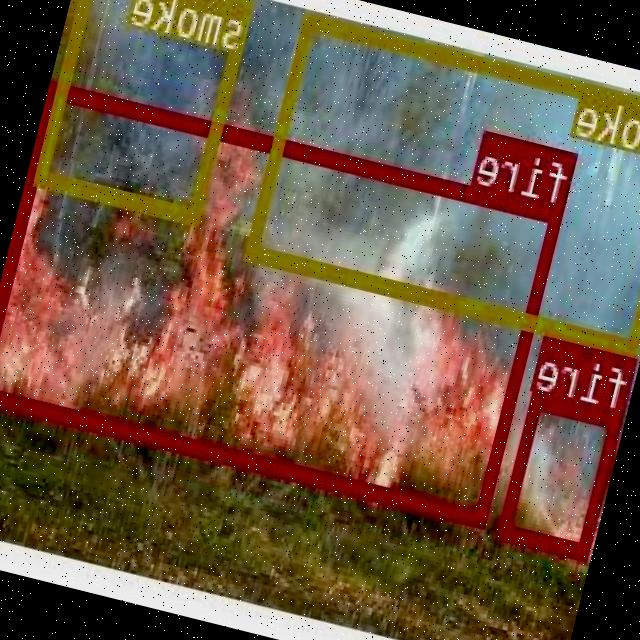fire: (0, 78, 566, 523), (499, 391, 626, 559)
smoke: (247, 11, 640, 353), (36, 0, 255, 220)
